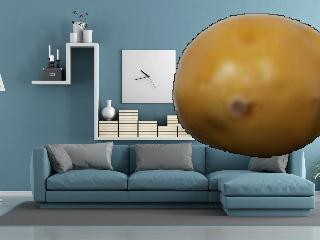potato: (173, 13, 320, 157)
